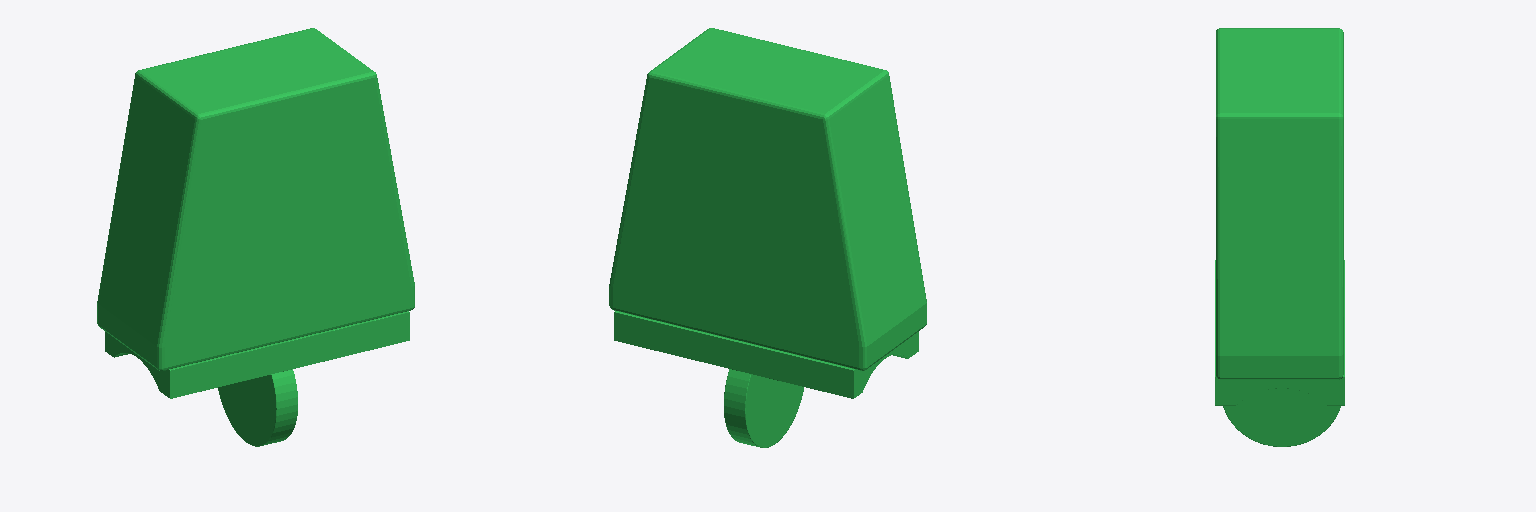
The picture shows the model from 3 angles: view 1: azimuth 30°, elevation 25°; view 2: azimuth 150°, elevation 25°; view 3: azimuth 270°, elevation 25°; orthographic projection.
Visible parts, largest first — view 1: body:Cuerpo; view 2: body:Cuerpo; view 3: body:Cuerpo.
Part boxes in pixels (x1,y1,x2,y2): body:Cuerpo: (97,28,414,446); body:Cuerpo: (609,28,926,447); body:Cuerpo: (1215,28,1344,446).
Bounding box in the file's own units: 2.33 × 3.2 × 1.02.
1 materials, 1 textured.